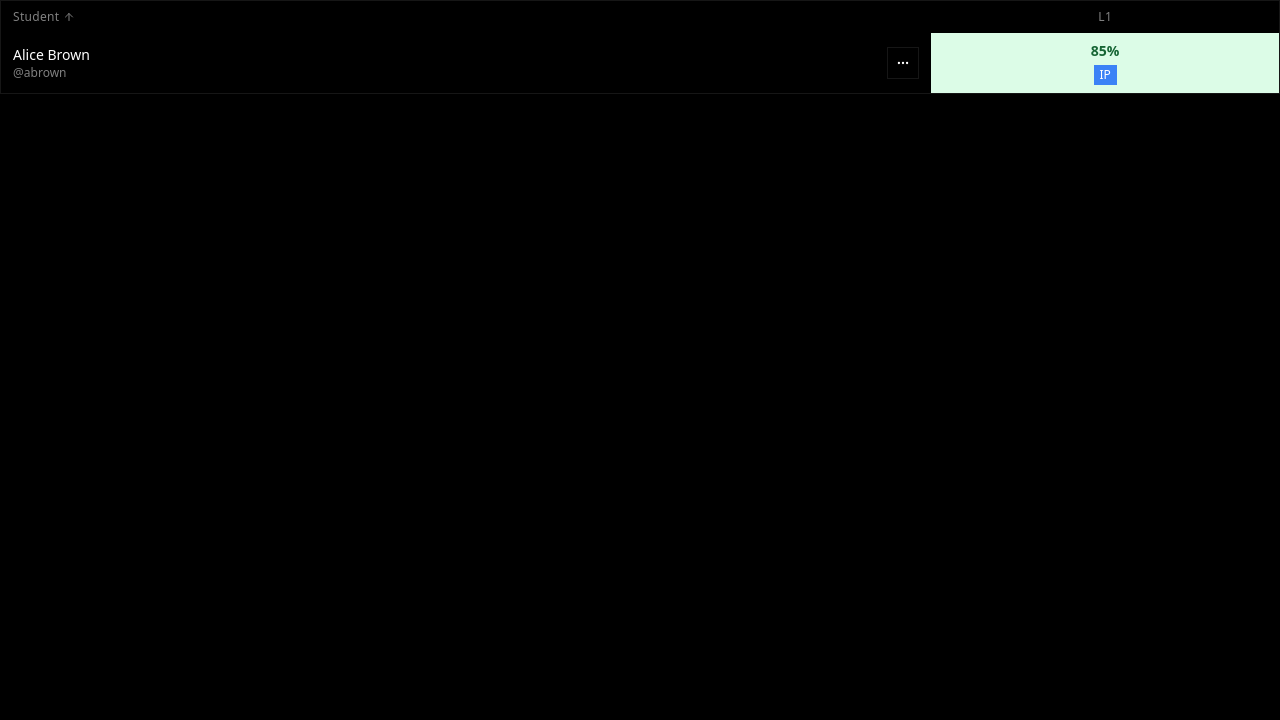
Test: Gradebook Drill-Down Integration › opens submission detail modal when gradebook cell is clicked
Check: the cell is shown, box [931,33,1279,93]
Click the button "85% IP" at [1105, 63], box [939,37,1271,89]
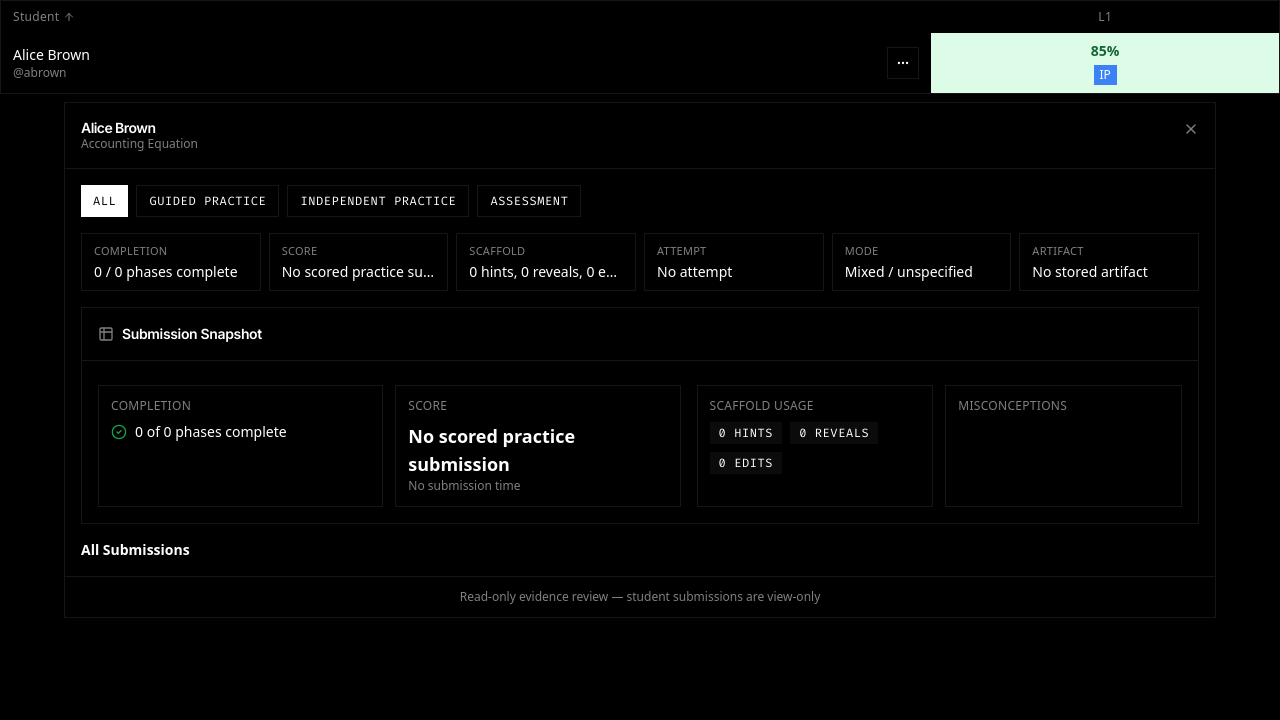
Check: the dialog is shown
